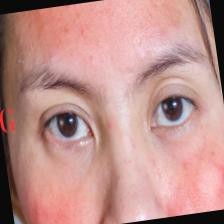Sensitif: (6, 0, 224, 224)
